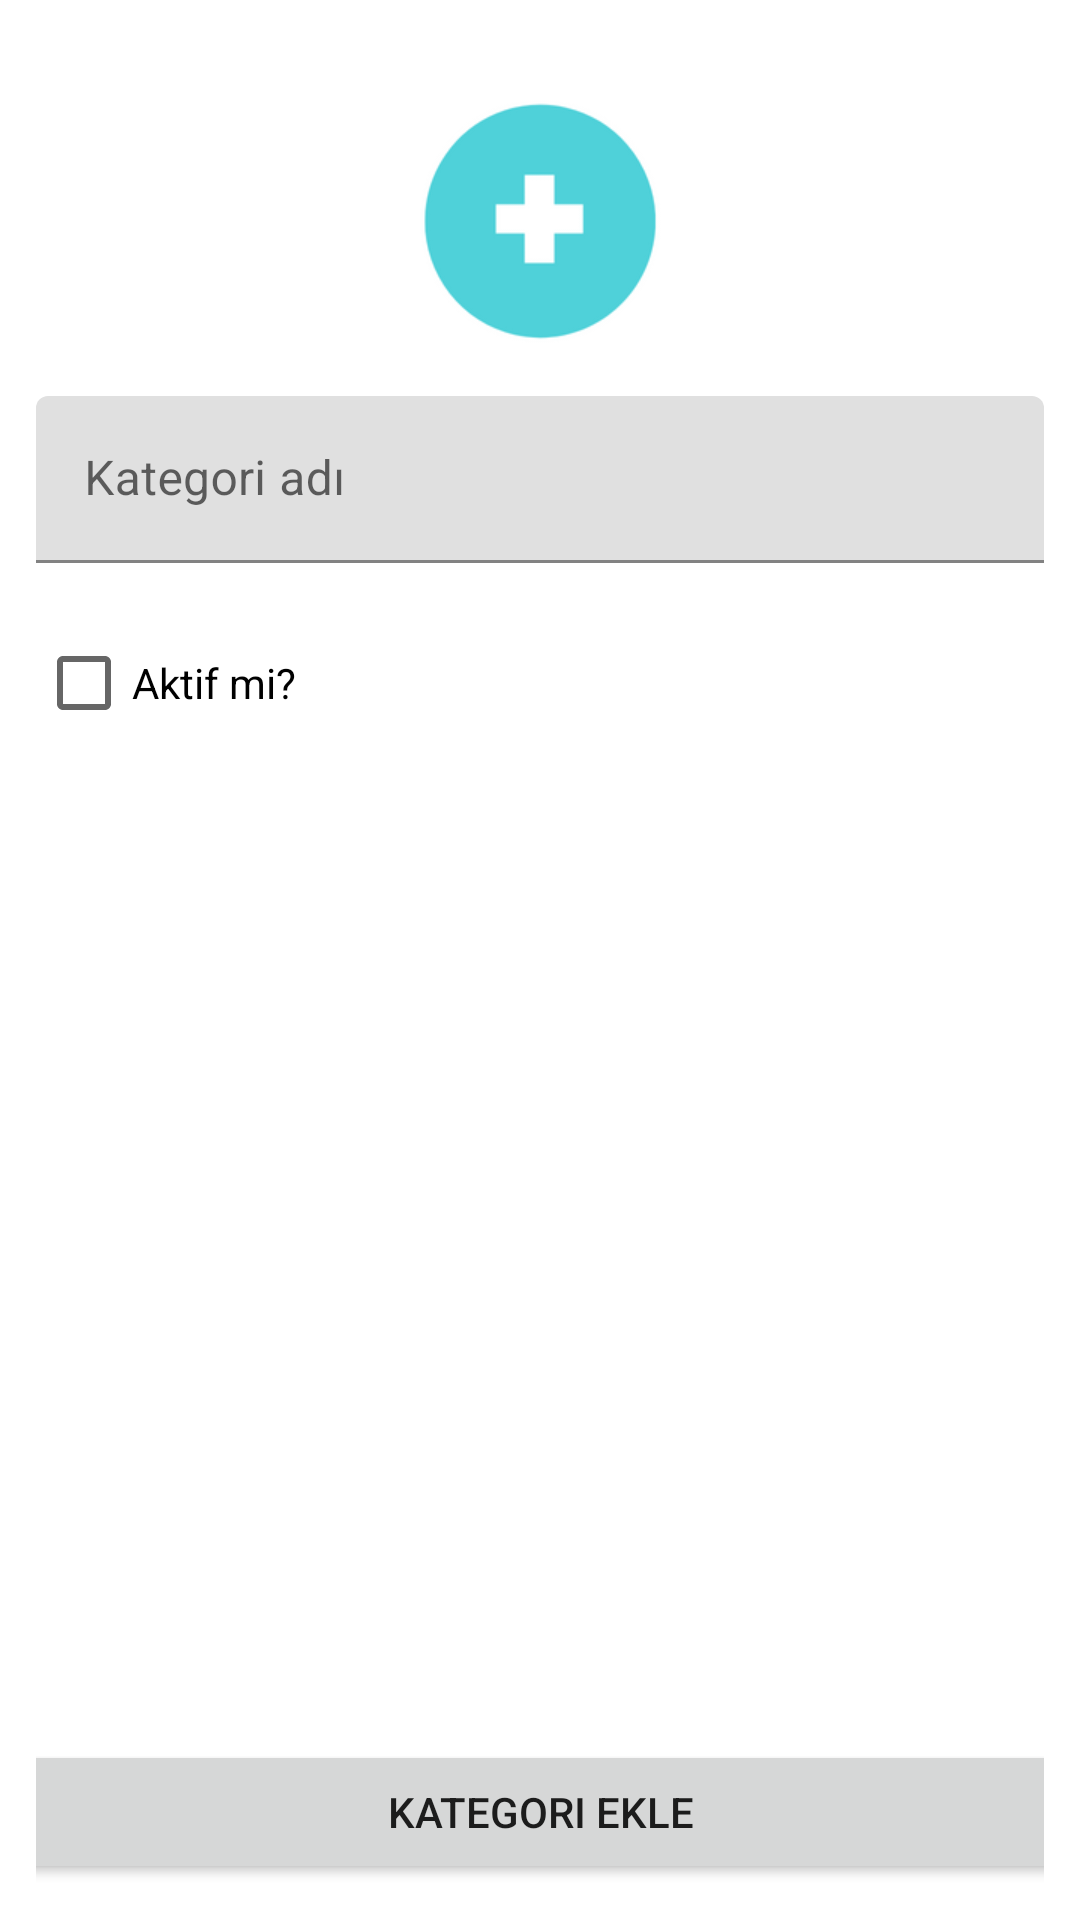

Named icons in this screenshot (1080*1920) and their bounding boxes, (x1, y1, x2, y2):
Kategori resmi ekleme simgesi: (424, 104, 656, 339)
